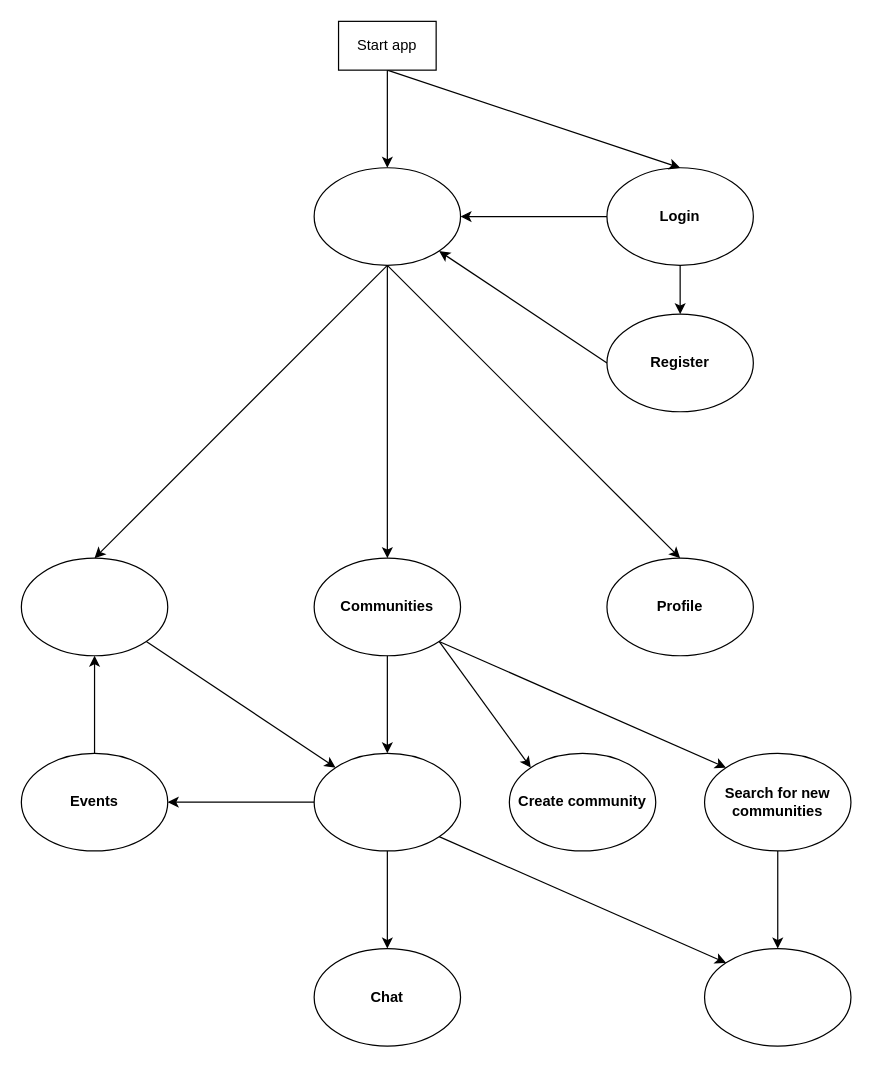
This 872x1068 diagram has some shape labels left out. Each missing label, with the centre of its shape:
"Community" belongs at (387,801).
"Community description" belongs at (777,996).
"Event" belongs at (94,606).
"Main page" belongs at (387,216).
